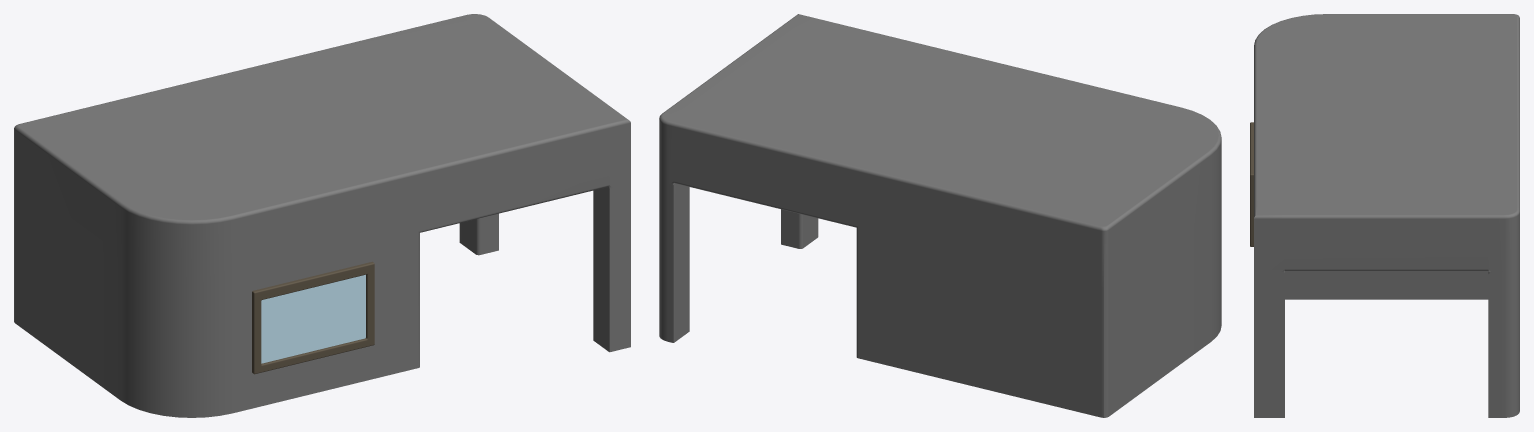
Rendered from building.fbx.
The picture shows the model from 3 angles, left to right: view 1: azimuth 30°, elevation 25°; view 2: azimuth 150°, elevation 25°; view 3: azimuth 270°, elevation 25°; orthographic projection. The views are drawn at different scales.
Visible parts, largest first — view 1: pCube1, pCube3, pCube2; view 2: pCube1; view 3: pCube1, pCube2.
Boxes of the visible parts, x1=… form: pCube1: x1=14, y1=14, x2=630, y2=417; pCube3: x1=261, y1=274, x2=365, y2=363; pCube2: x1=252, y1=261, x2=374, y2=374; pCube1: x1=659, y1=14, x2=1221, y2=417; pCube1: x1=1254, y1=14, x2=1519, y2=417; pCube2: x1=1250, y1=122, x2=1253, y2=246.
Size of the model in its own units: 9.98 by 4.61 by 5.59.
